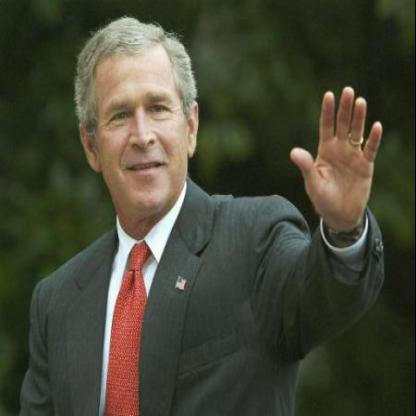face: (92, 25, 189, 215)
